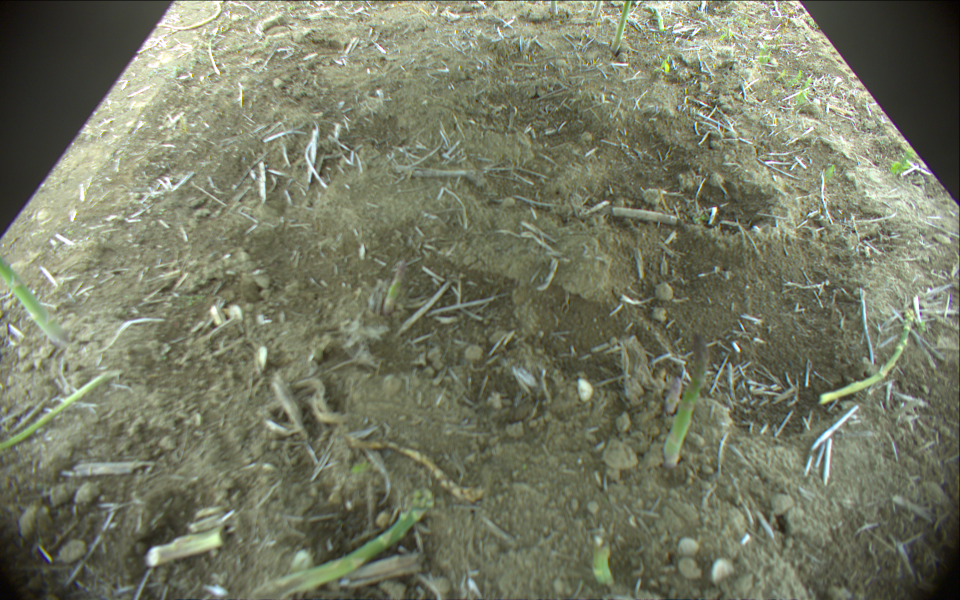aspa: (251, 503, 428, 600), (1, 368, 121, 456), (822, 305, 916, 403), (662, 330, 714, 469), (1, 253, 60, 343), (381, 256, 405, 318), (589, 526, 613, 587), (660, 374, 685, 419), (610, 1, 630, 53), (590, 1, 603, 17), (549, 1, 562, 16)
